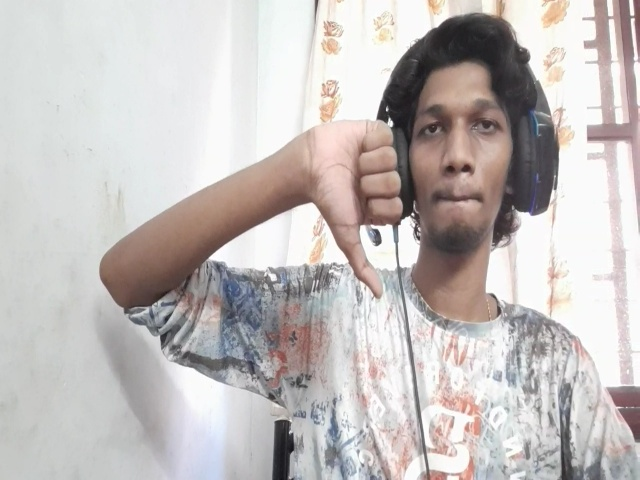ThumbsDown: (301, 119, 402, 298)
